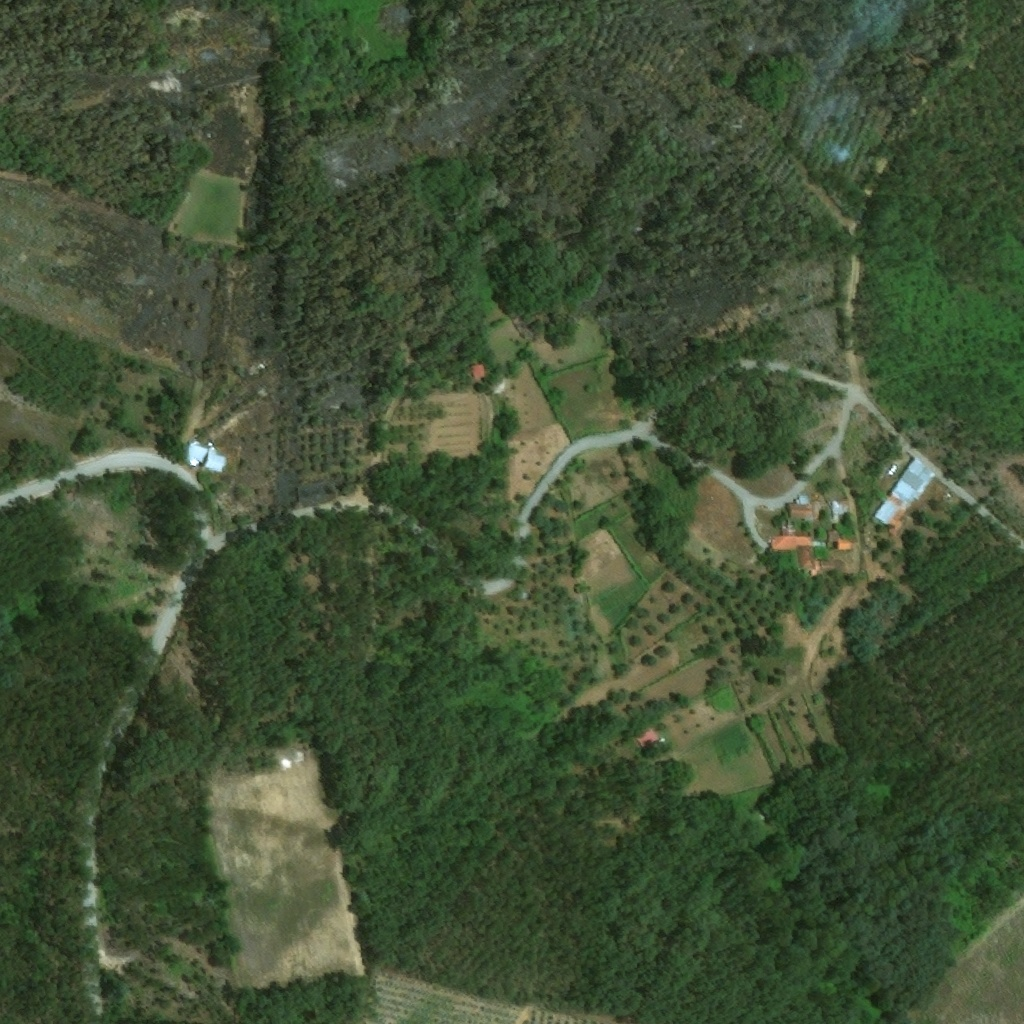0 no-damage: (869, 457, 937, 539), (770, 525, 845, 579), (183, 441, 225, 476), (786, 494, 820, 523), (631, 726, 657, 751), (828, 529, 853, 553), (830, 501, 851, 521), (470, 362, 485, 379)
